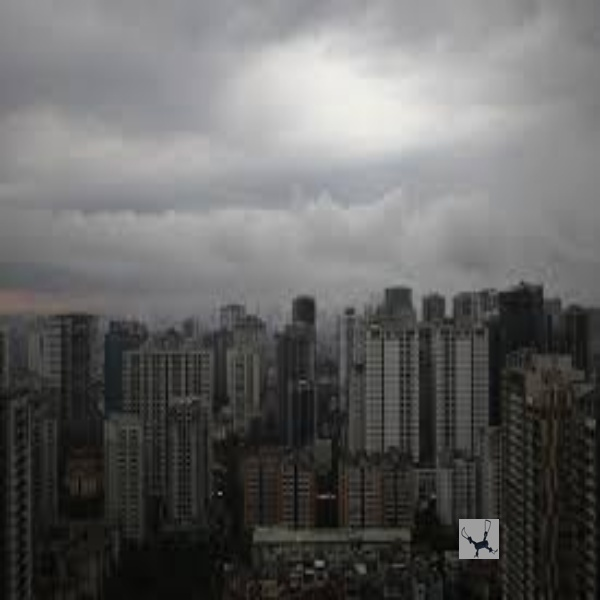drone: (456, 517, 500, 560)
